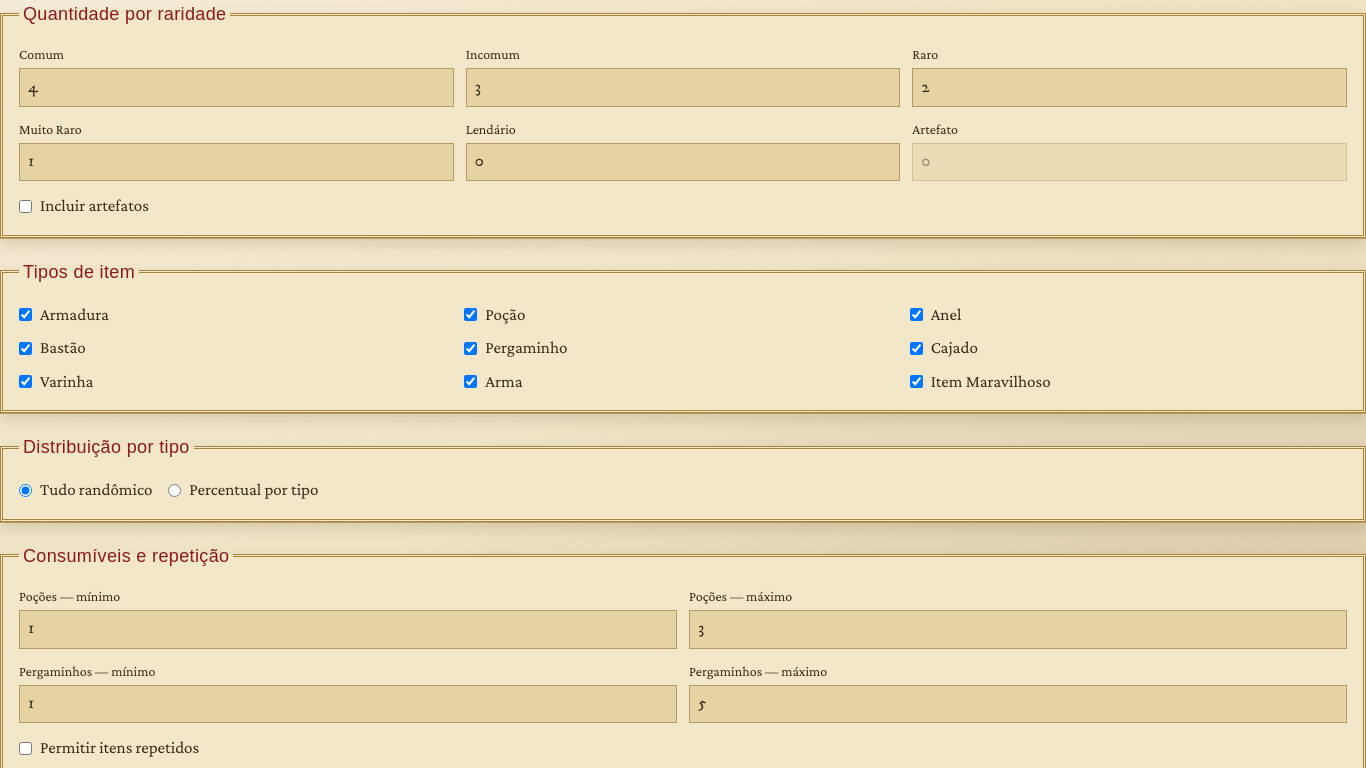
GeneratorForm › quantidade de artefatos só habilita com Incluir artefatos
Check: the number field labelled "Artefato" is disabled, box left=912, top=143, right=1347, bottom=181
Click the checkbox labelled "Incluir artefatos" at (26, 206), box left=19, top=200, right=32, bottom=213
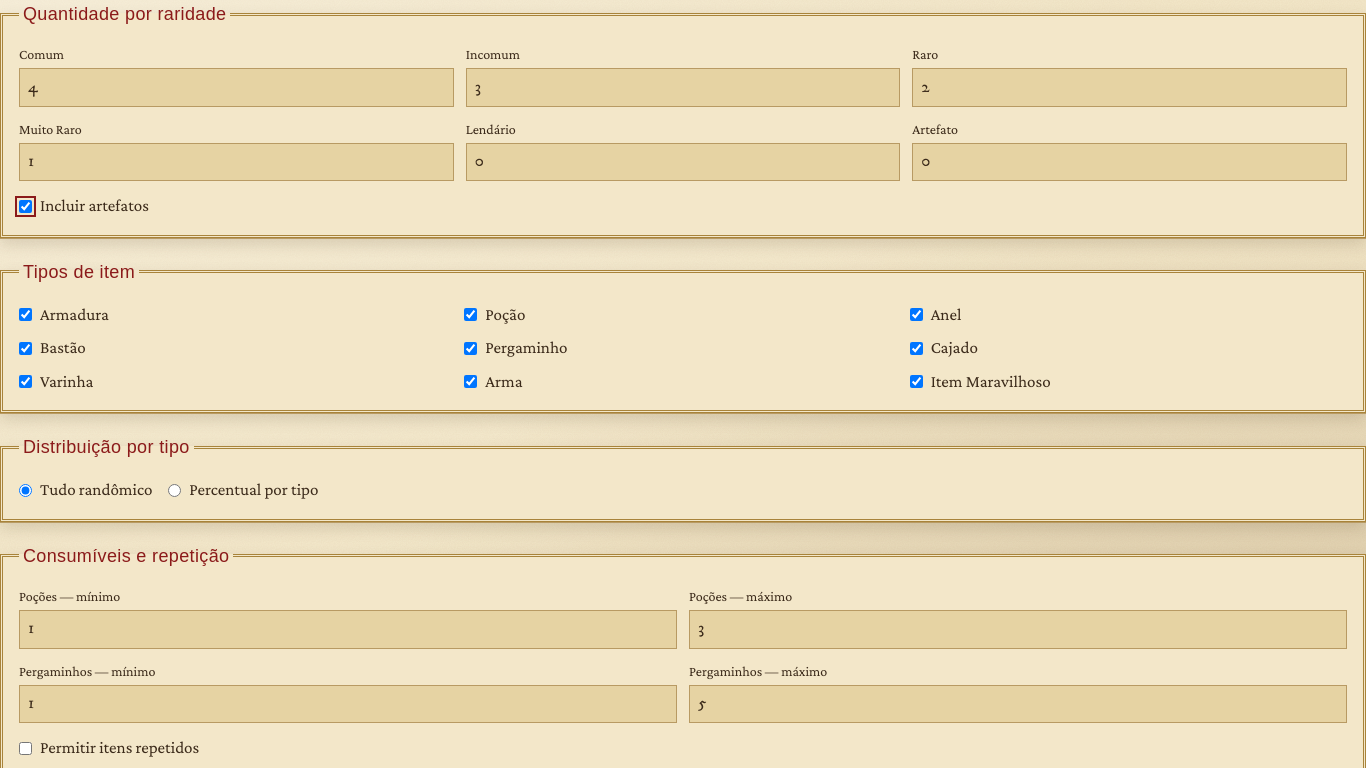
Check: the number field labelled "Artefato" is enabled, box left=912, top=143, right=1347, bottom=181
